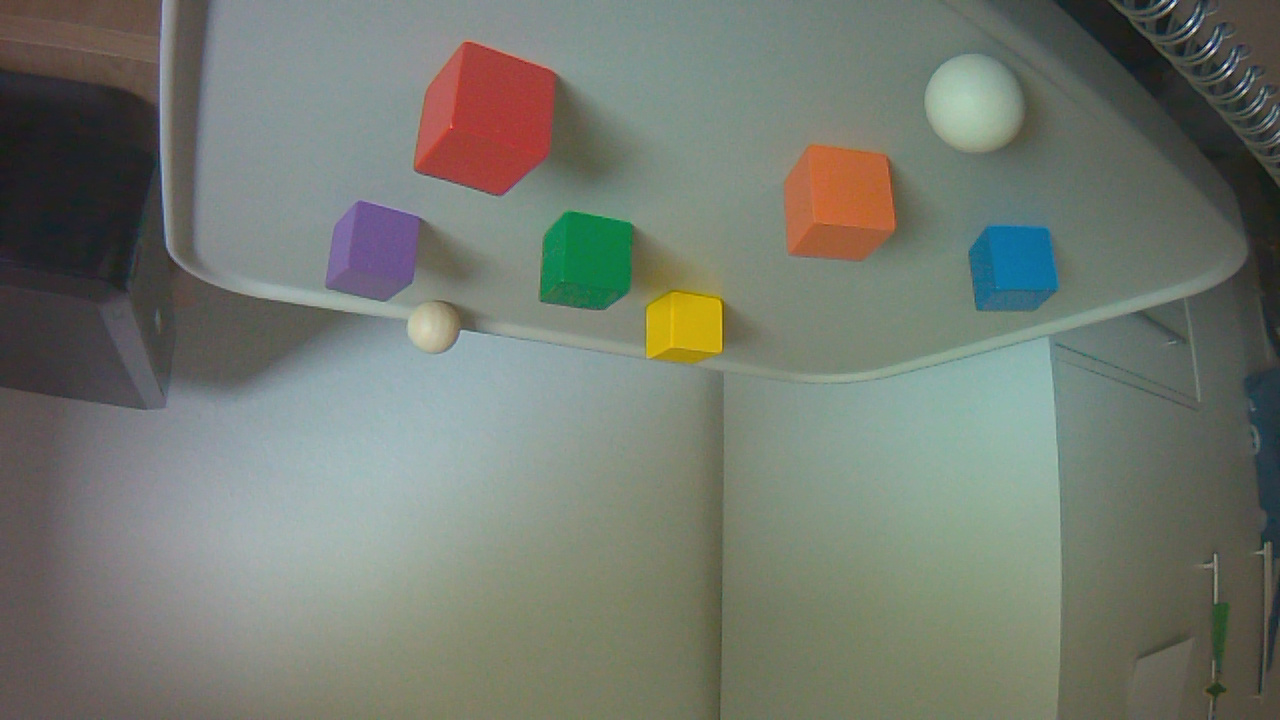ball: (929, 56, 1033, 162), (412, 304, 466, 360)
cube_blue: (970, 227, 1064, 321)
cube_green: (541, 214, 642, 318)
cube_orange: (786, 148, 901, 270)
cube_purple: (328, 206, 427, 309)
cube_red: (418, 46, 564, 204)
cube_yellow: (647, 296, 730, 372)
